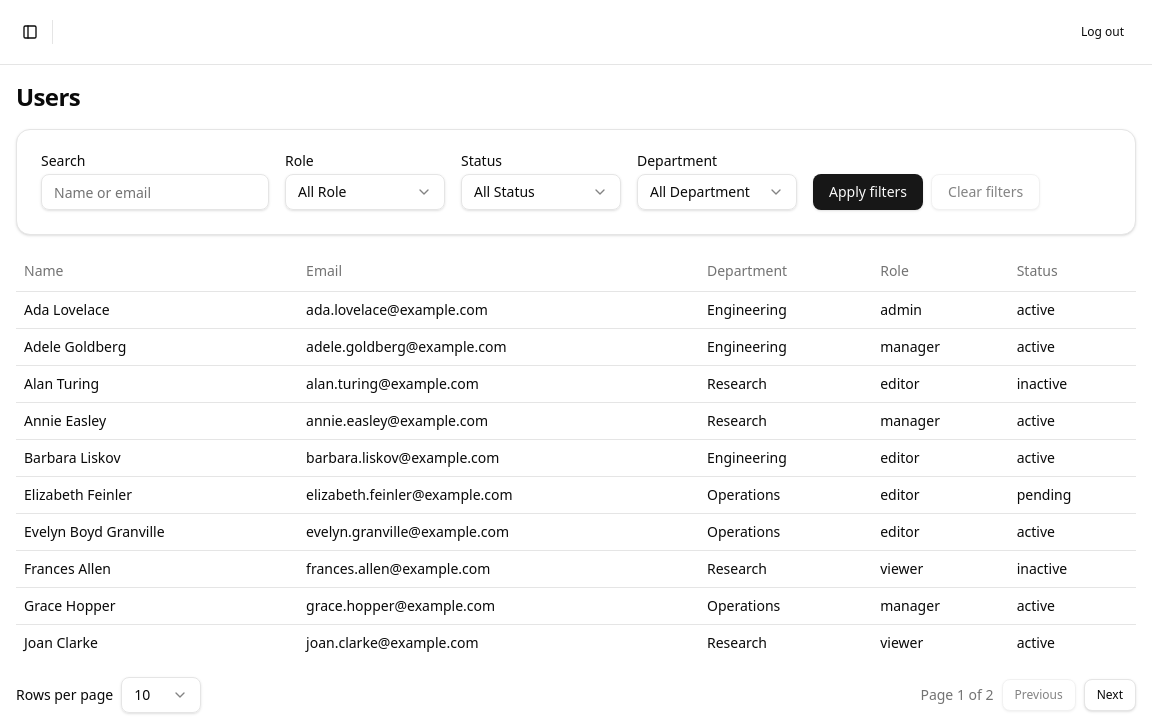
/users › filters the list by role through the UI and updates the URL
This screenshot has width=1152, height=720.
Expected: the row "Ada Lovelace" is shown, [16,291,1136,328]
Click the dropdown labelled "Role". click: (365, 192)
box: [285,174,445,210]
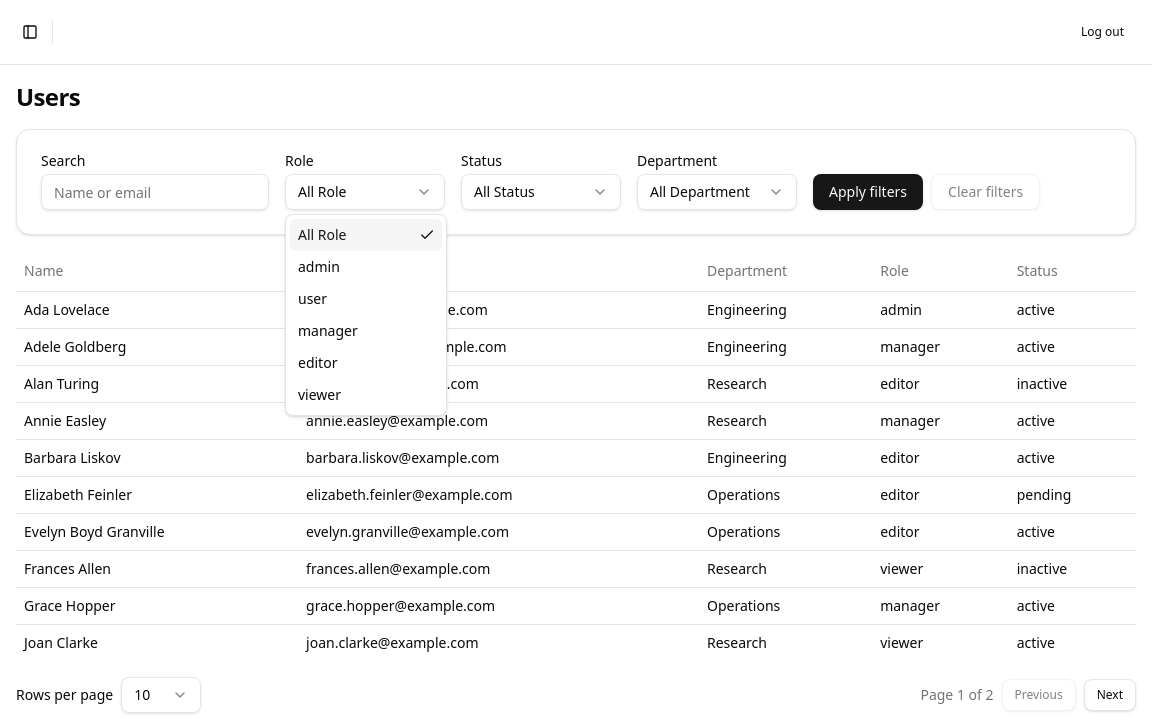
Click the option "admin". click: (319, 266)
box: [298,257,340,276]
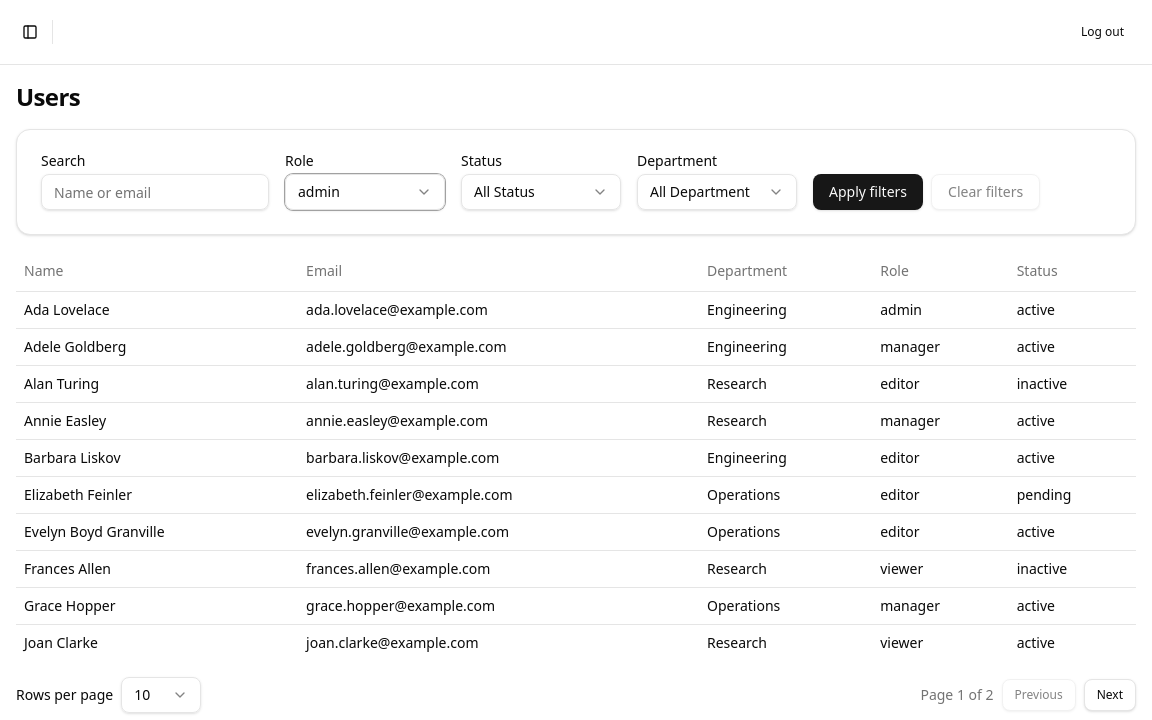
Click the button "Apply filters". click: (868, 192)
box: [813,174,923,210]
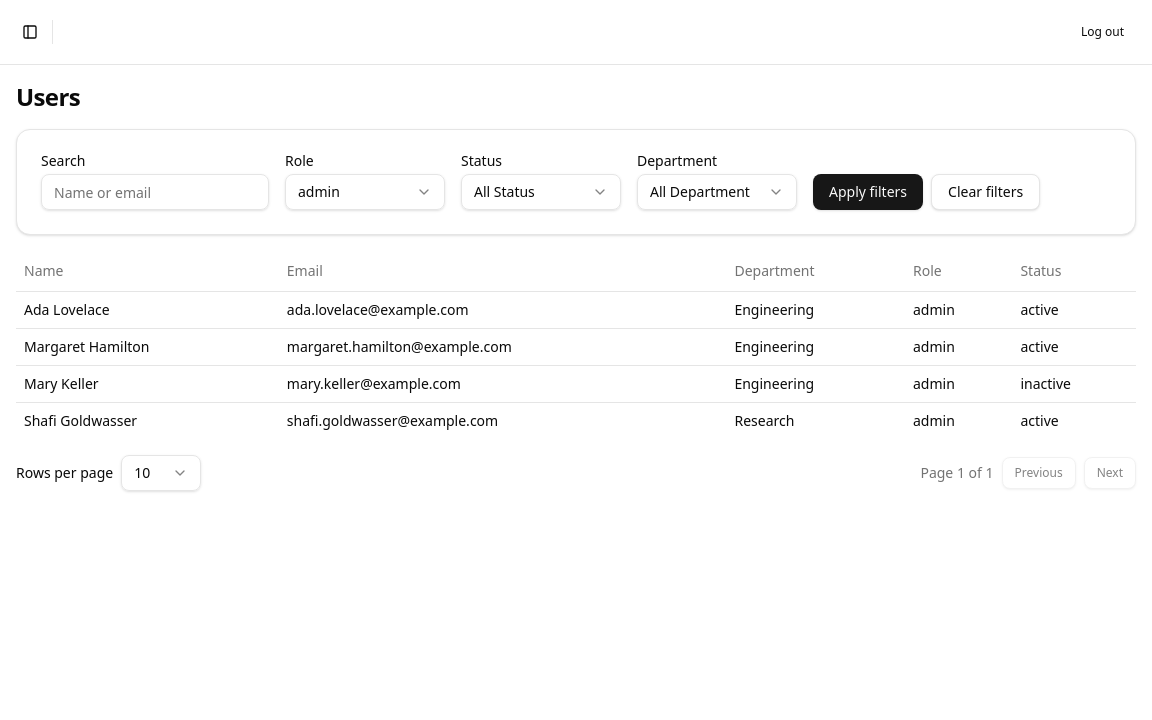
Expected: the row "Ada Lovelace" is shown, [16,291,1136,328]
Expected: the link "Grace Hopper" is gone
